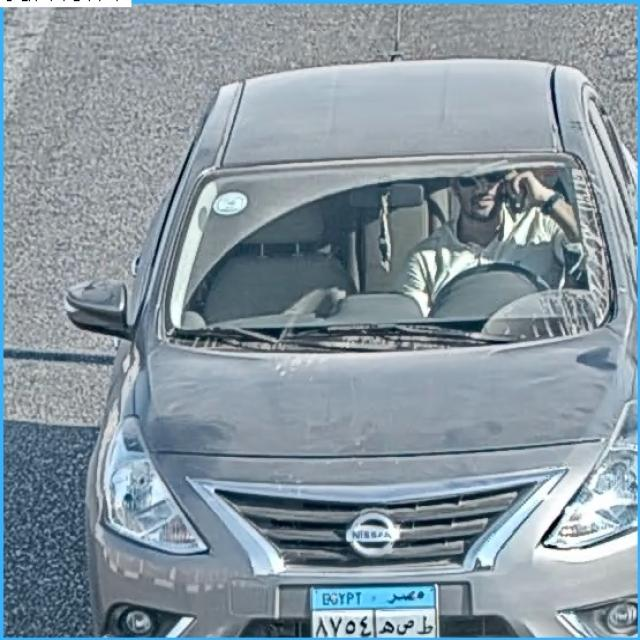windshield: (165, 164, 610, 341)
